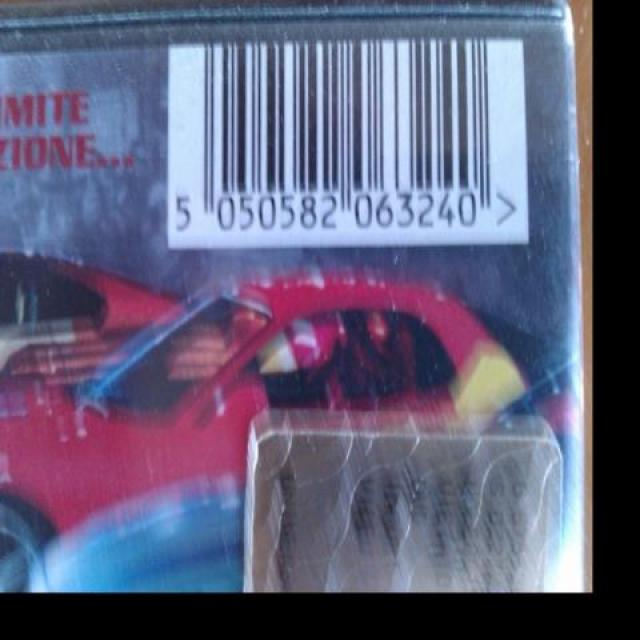Barcode: (169, 39, 528, 241)
